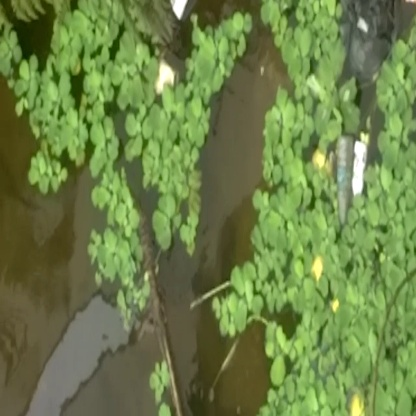bottle: (331, 131, 355, 219)
